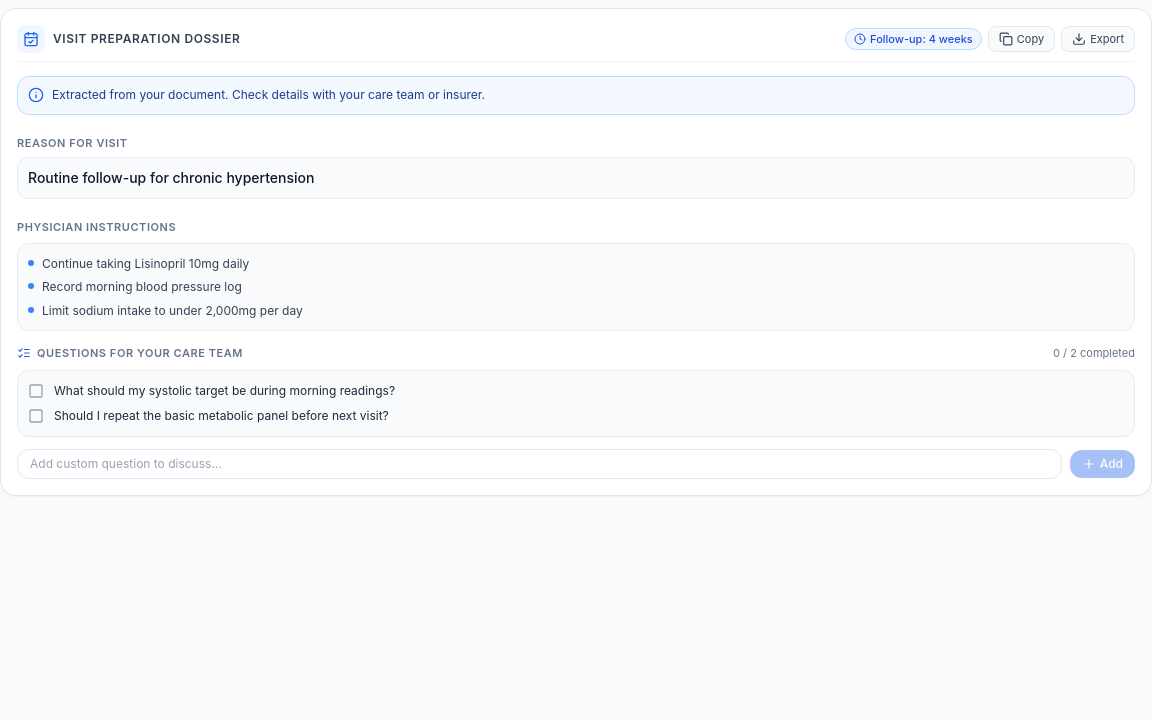
Test: DossierCard & Typed Dossier Components (Issue #94) › VisitPrepCard › allows adding custom questions to the checklist and persists them
Step 1. Type "Can I exercise before taking blood pressure?" into the field with test id "add-question-input" → [539, 464], box [17,448,1062,478]
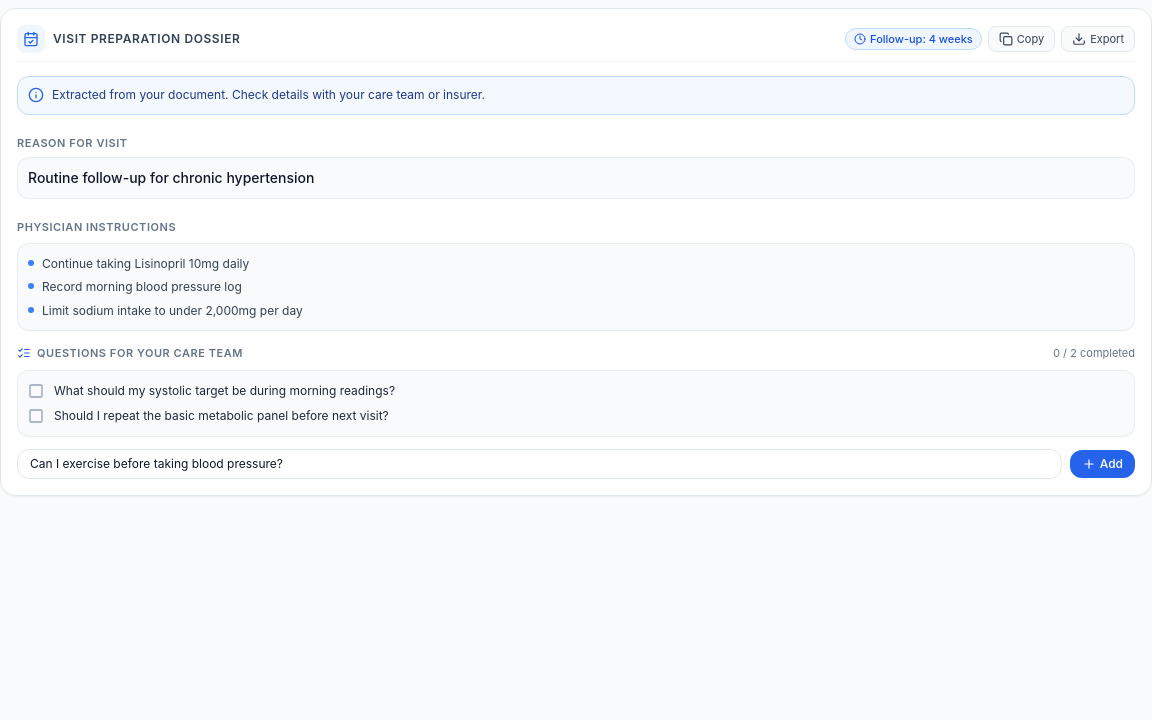
Step 2. Click the button with test id "add-question-btn" → [1102, 464], box [1070,450,1135,478]
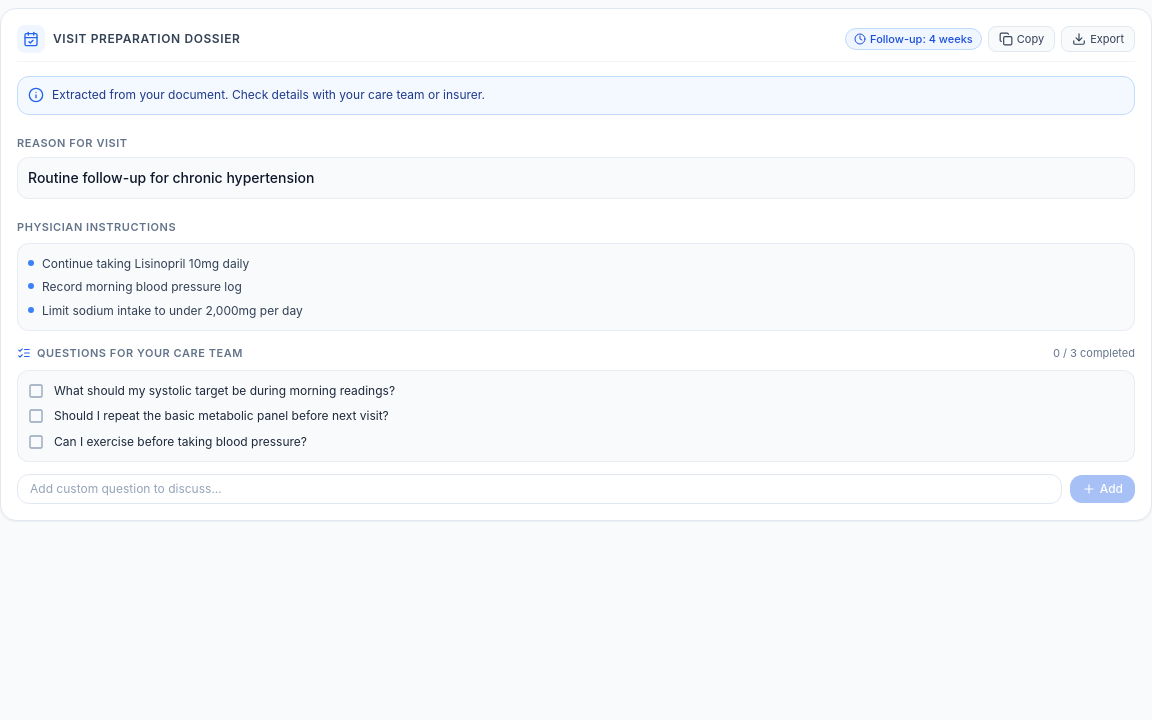
expect the text "Can I exercise before taking blood pressure?" is shown: met, box [54,432,307,451]
